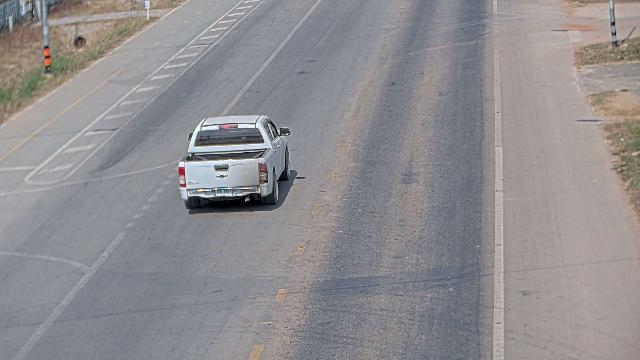pickup-truck: (177, 113, 291, 209)
